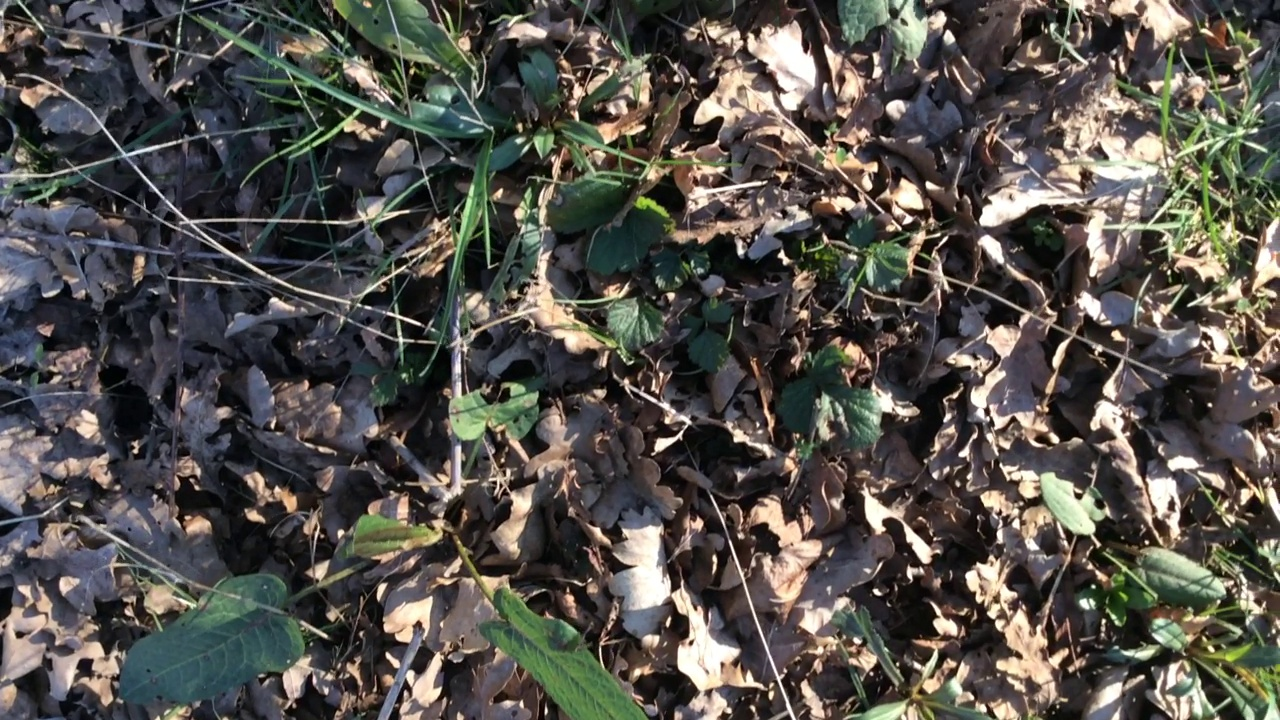rumex: (117, 376, 650, 720)
